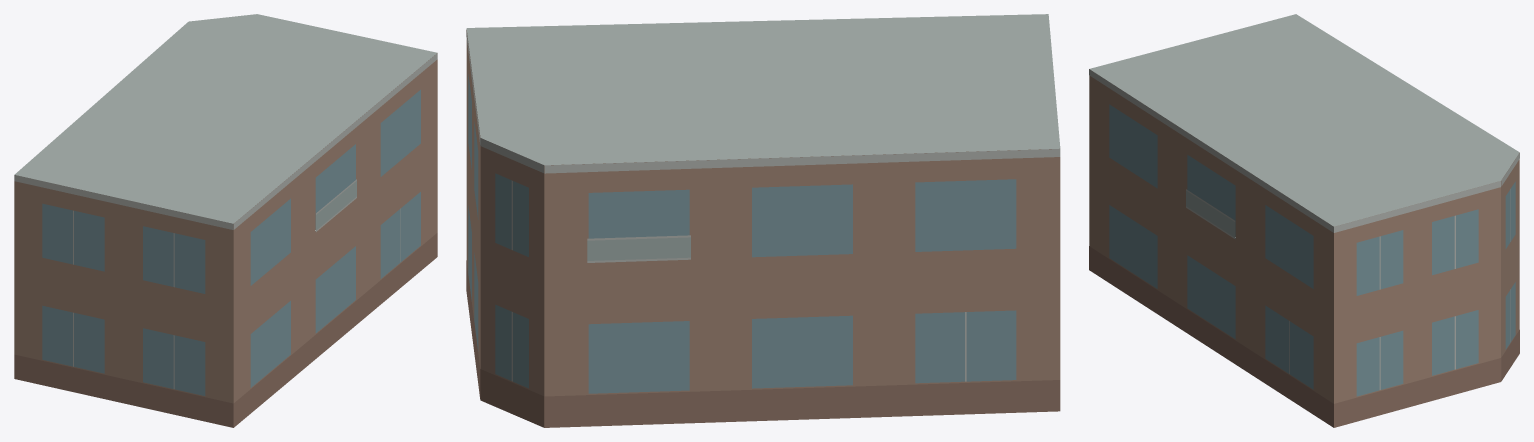
File: survey-upis-32976808.glb
3 views of the same model, side by side, from view 1: azimuth 30°, elevation 25°; view 2: azimuth 150°, elevation 25°; view 3: azimuth 270°, elevation 25° (orthographic). The views are drawn at different scales.
Visible parts, largest first — view 1: survey-upis-32976808.tmp; view 2: survey-upis-32976808.tmp; view 3: survey-upis-32976808.tmp.
Part boxes in pixels (x1,y1,x2,y2): survey-upis-32976808.tmp: [14, 14, 437, 427]; survey-upis-32976808.tmp: [466, 14, 1060, 427]; survey-upis-32976808.tmp: [1089, 14, 1519, 427].
Bounding box in the file's own units: 17.71 × 7.8 × 15.15.
